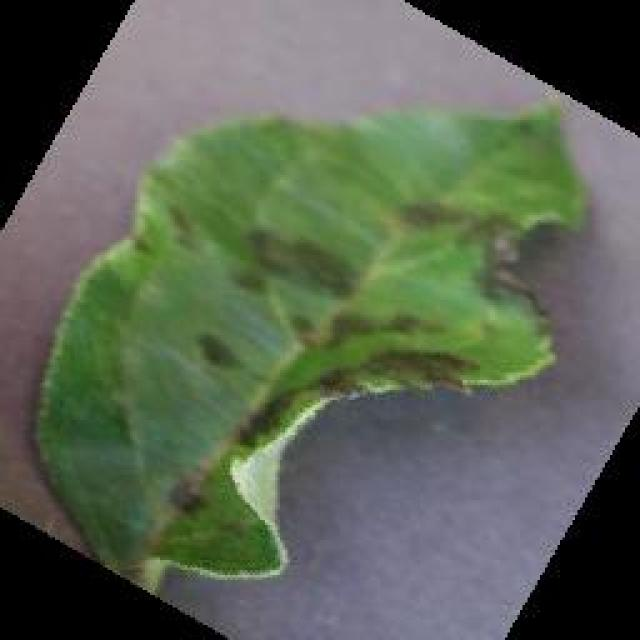apple scab disease: (28, 95, 592, 593)
